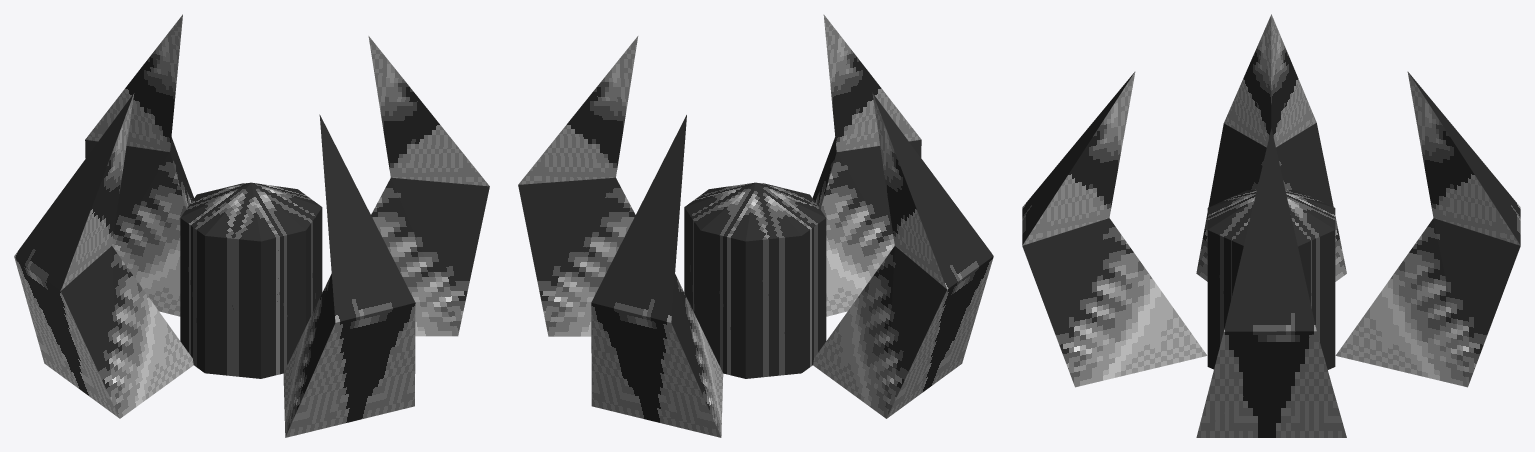
3 views of the same model, side by side, from view 1: azimuth 30°, elevation 25°; view 2: azimuth 150°, elevation 25°; view 3: azimuth 270°, elevation 25° (orthographic).
Visible parts, largest first — view 1: ReconEnhancer_Anim_part00; view 2: ReconEnhancer_Anim_part00; view 3: ReconEnhancer_Anim_part00.
Boxes of the visible parts, x1=… form: ReconEnhancer_Anim_part00: x1=14, y1=14, x2=489, y2=437; ReconEnhancer_Anim_part00: x1=518, y1=14, x2=993, y2=437; ReconEnhancer_Anim_part00: x1=1022, y1=14, x2=1520, y2=437.
Bounding box in the file's own units: 49.56 × 31.57 × 50.06.
Materials: 4 (4 with a texture image).
